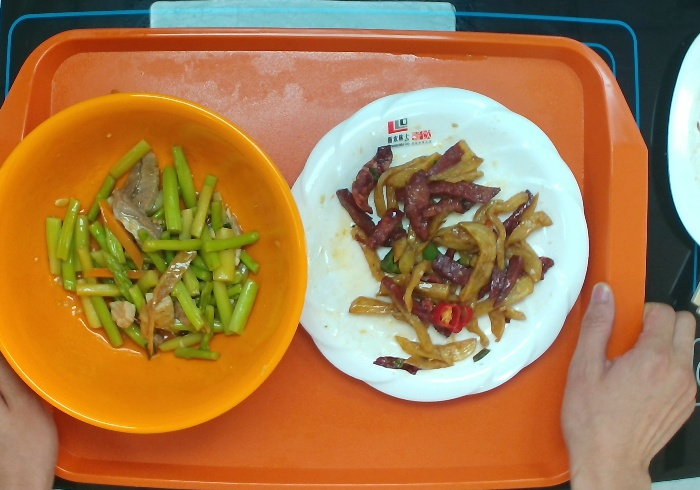ZNLD-Hua_Bian_Wan: (284, 87, 592, 406)
ZNLD-Ju_Se_Tang_Wan: (1, 92, 308, 433)
